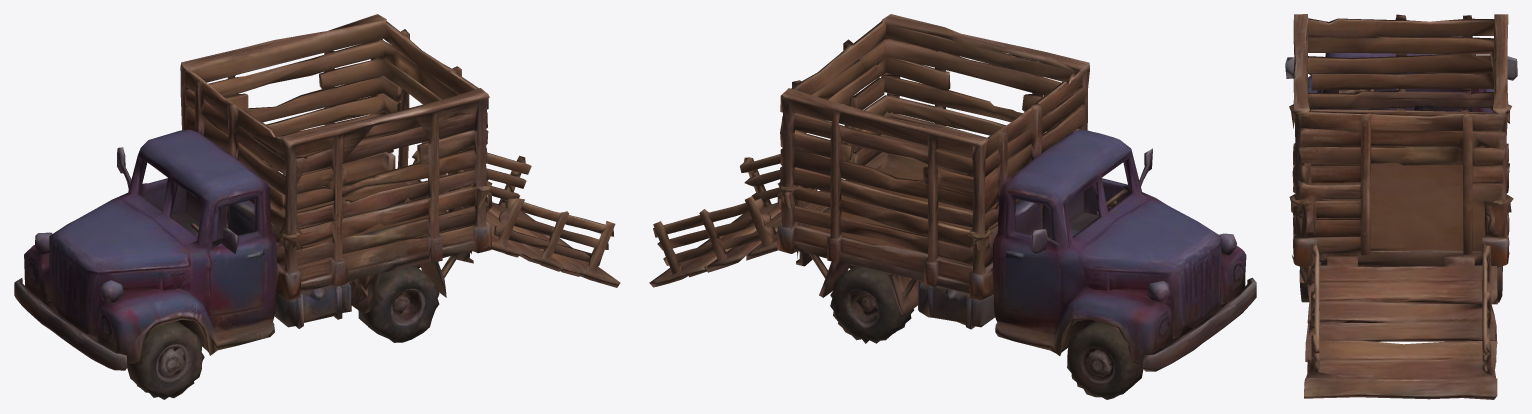
Rendered from truck_livestock.glb.
3 views of the same model, side by side, from view 1: azimuth 30°, elevation 25°; view 2: azimuth 150°, elevation 25°; view 3: azimuth 270°, elevation 25° (orthographic). The views are drawn at different scales.
Visible parts, largest first — view 1: tripo_node_9a2d11f7-0c98-433d-859a-bdad00353794; view 2: tripo_node_9a2d11f7-0c98-433d-859a-bdad00353794; view 3: tripo_node_9a2d11f7-0c98-433d-859a-bdad00353794.
Part boxes in pixels (x1=…): tripo_node_9a2d11f7-0c98-433d-859a-bdad00353794: x1=14, y1=14, x2=620, y2=399; tripo_node_9a2d11f7-0c98-433d-859a-bdad00353794: x1=649, y1=14, x2=1256, y2=399; tripo_node_9a2d11f7-0c98-433d-859a-bdad00353794: x1=1285, y1=14, x2=1517, y2=399.
Bounding box in the file's own units: 1 × 0.4321 × 0.3979.
1 material, 1 textured.
